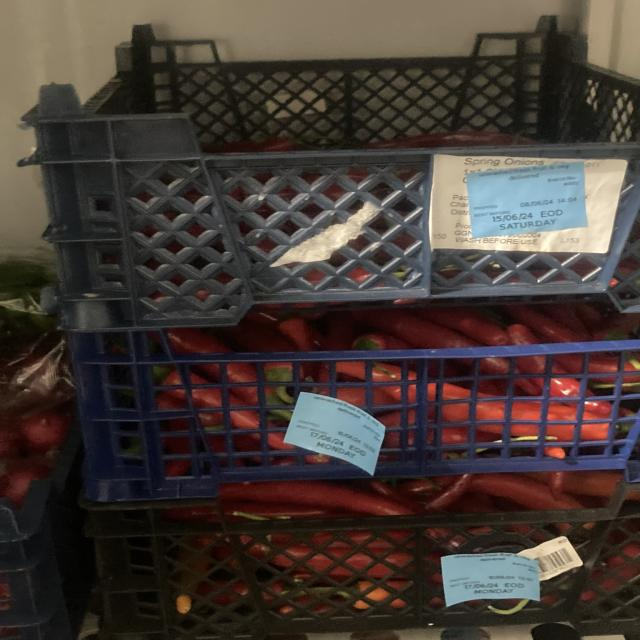product-labels: (467, 161, 590, 239), (284, 387, 392, 475), (442, 549, 541, 608)
